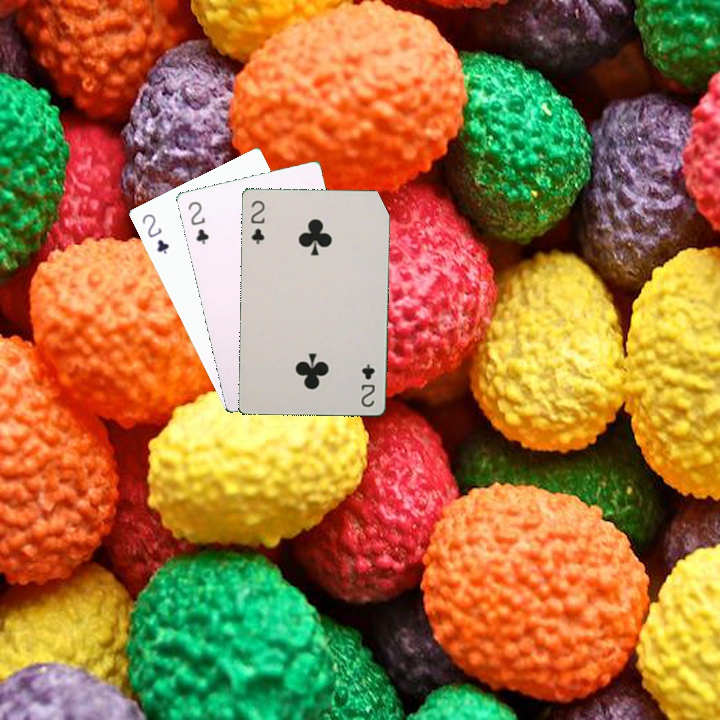2c: (138, 209, 172, 257), (184, 197, 211, 247), (246, 196, 267, 247), (357, 360, 377, 409)
